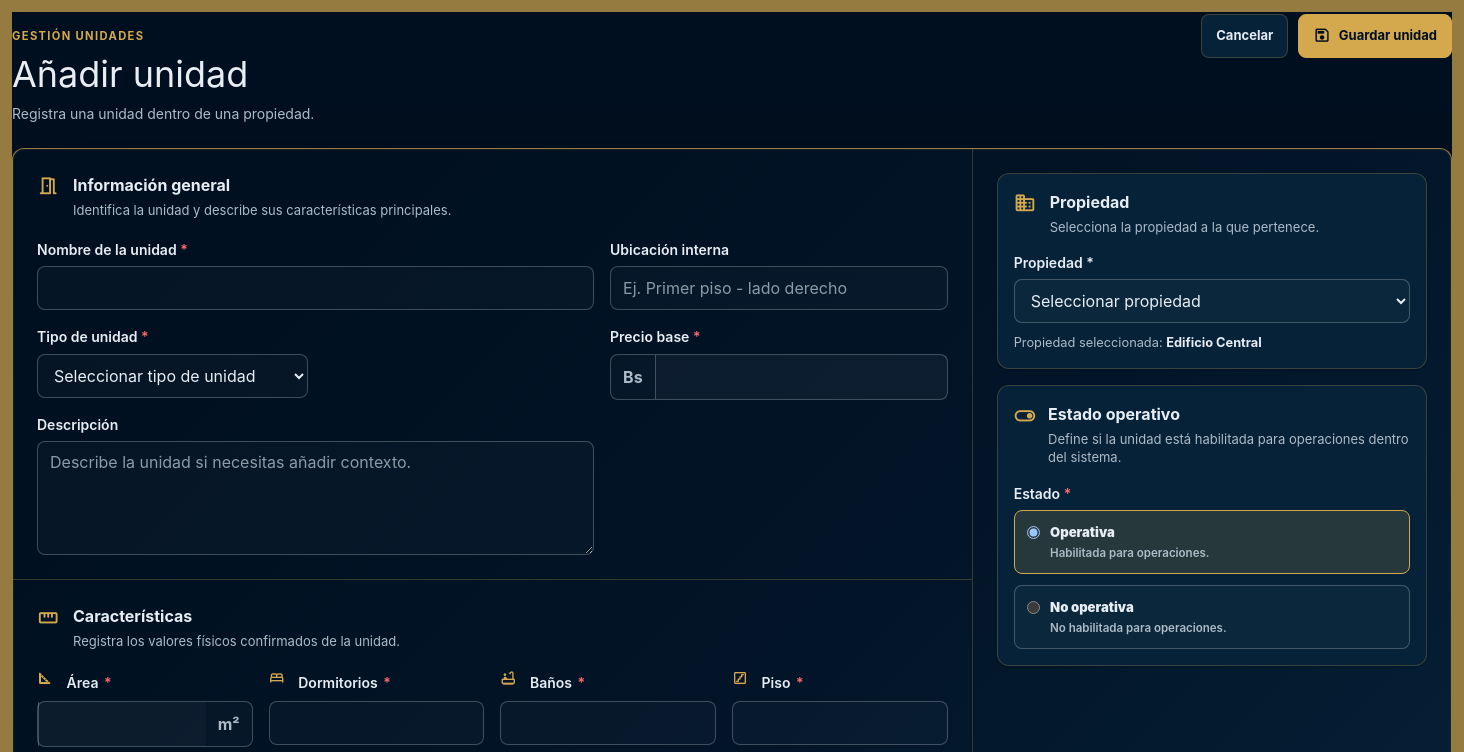
it: UnidadFormComponent › selects common unit types and reveals a custom field for Otro
The width and height of the screenshot is (1464, 752).
Select "OTRO" in the dropdown with id "unit-type" at (172, 376), box top-left (37, 354), bottom-right (308, 398)
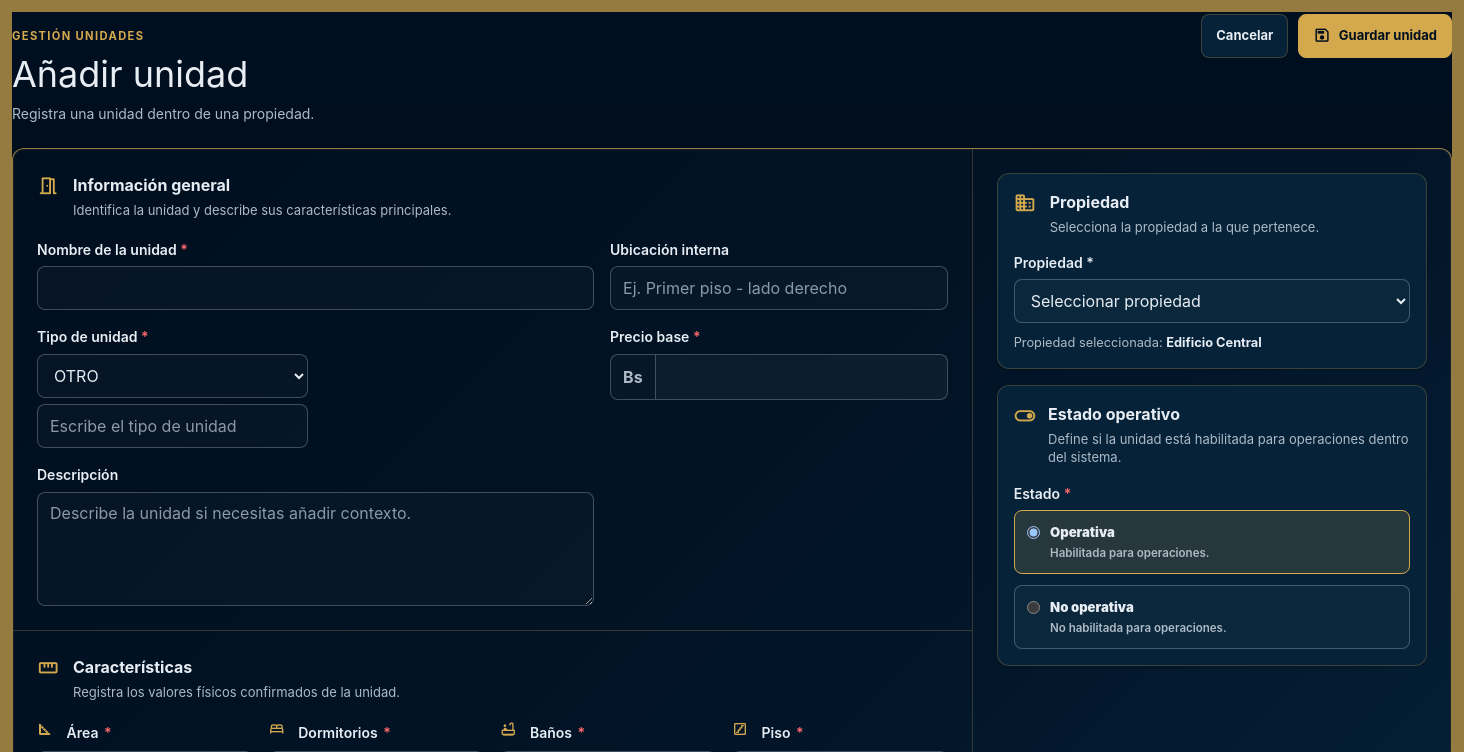
expect the field with id "unit-type-custom" is shown: met
Type "Penthouse" into the field with id "unit-type-custom" at (172, 426), box top-left (37, 404), bottom-right (308, 448)
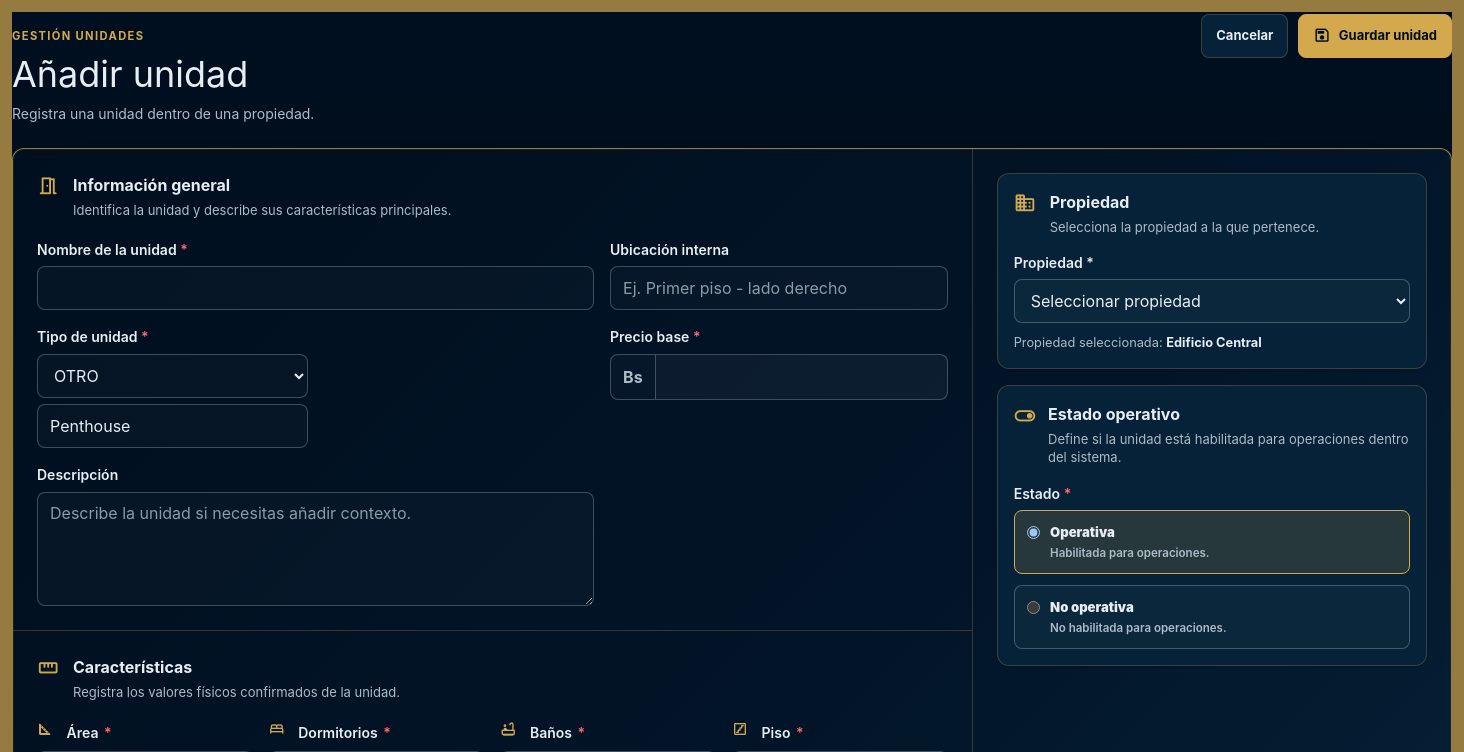
Select "CASA" in the dropdown with id "unit-type" at (172, 376), box top-left (37, 354), bottom-right (308, 398)
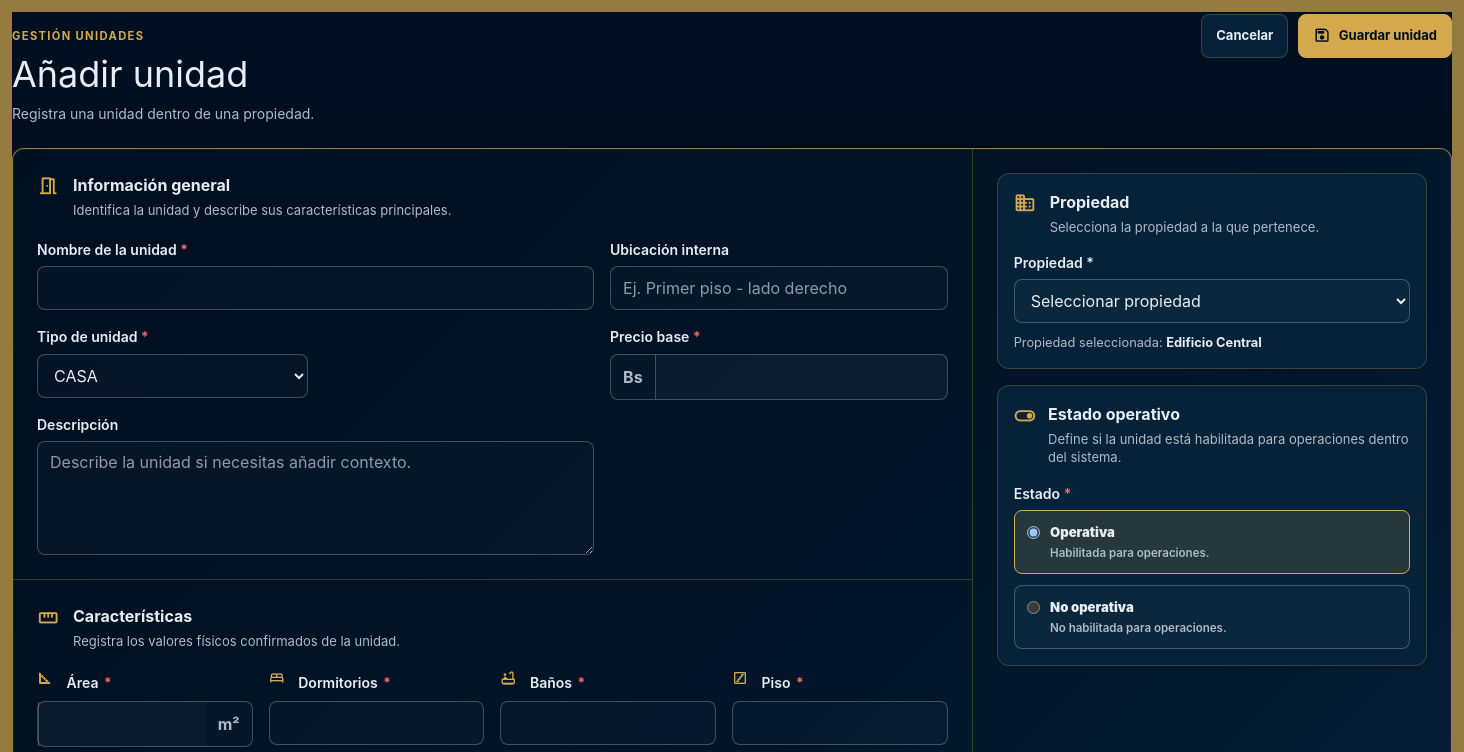
expect the field with id "unit-type-custom" is gone: met
